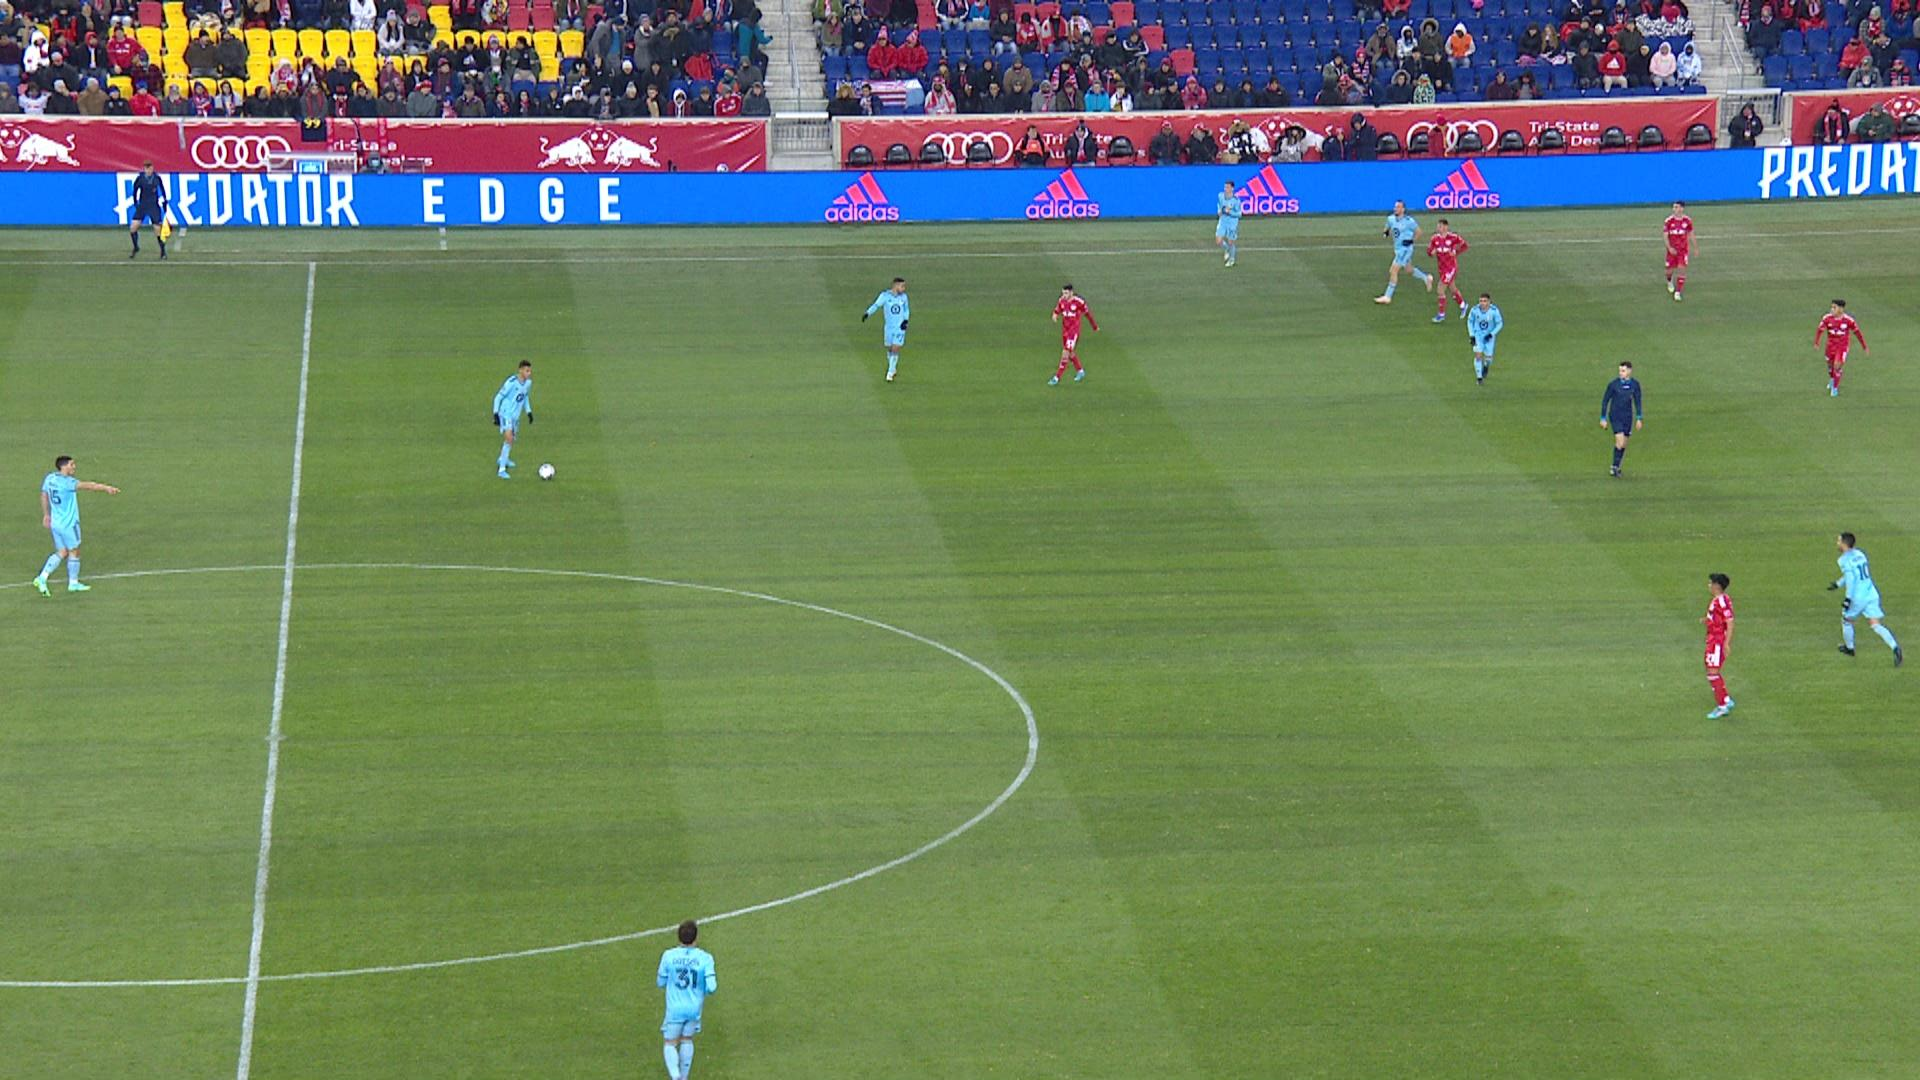football: (538, 462, 556, 481)
